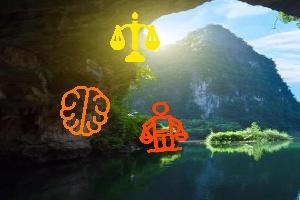人两袋: (140, 101, 187, 152)
天平: (110, 12, 160, 62)
脑子: (61, 85, 110, 135)
